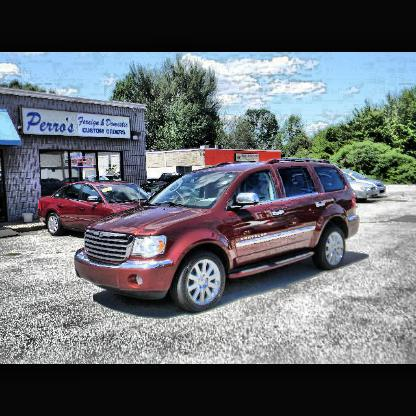Chrysler Aspen SUV 2009: (76, 162, 360, 316)
